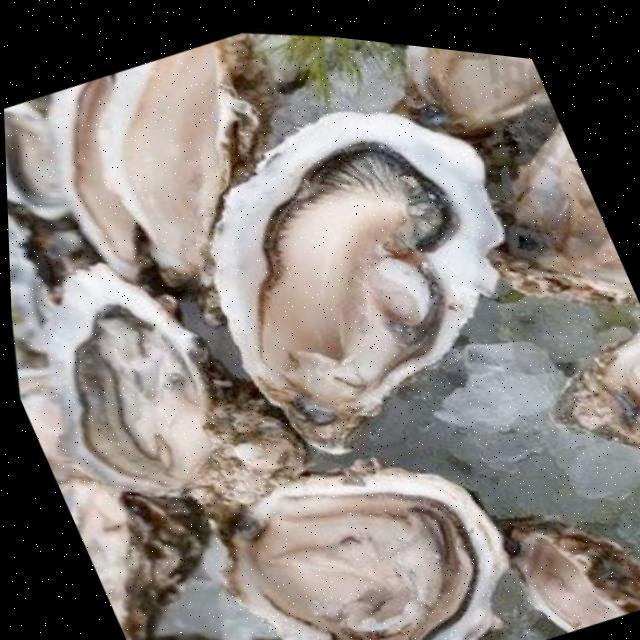Oyster-Open: (202, 91, 520, 464), (32, 255, 329, 519), (190, 443, 520, 640), (85, 33, 290, 340), (483, 111, 640, 312), (50, 467, 209, 640), (43, 68, 162, 282), (382, 43, 554, 156), (500, 509, 640, 636), (534, 317, 640, 459), (4, 96, 82, 235)
